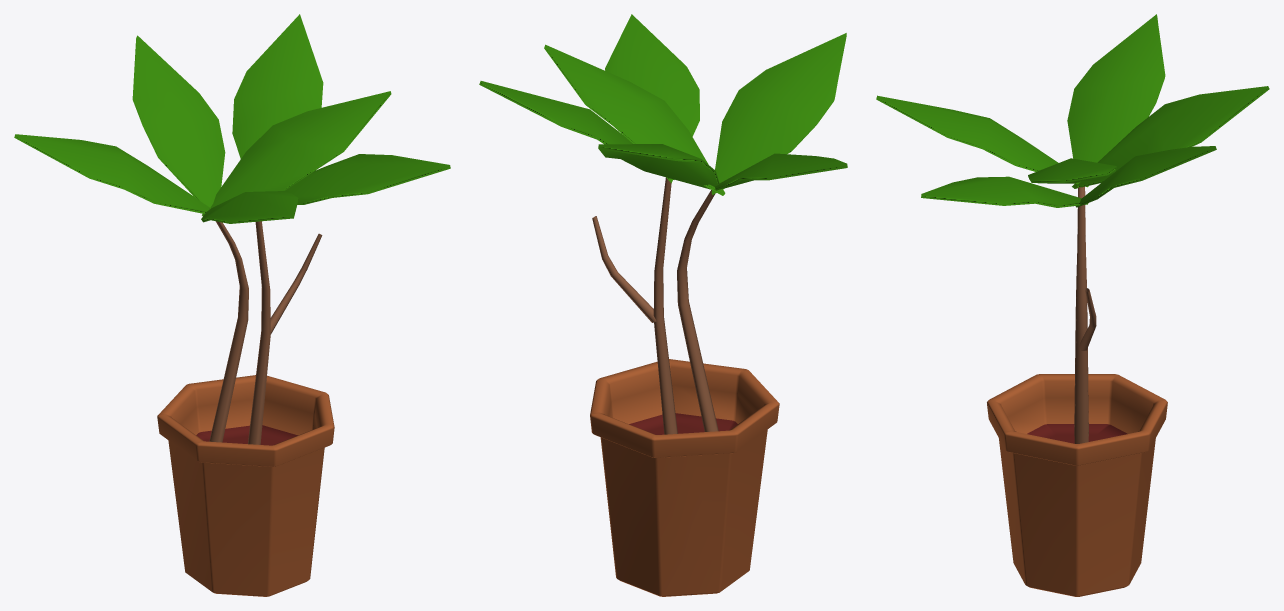
File: bitki.fbx
3 views of the same model, side by side, from view 1: azimuth 30°, elevation 25°; view 2: azimuth 150°, elevation 25°; view 3: azimuth 270°, elevation 25° (orthographic). The views are drawn at different scales.
Parts seen in each view (by area): view 1: oda2.182; view 2: oda2.182; view 3: oda2.182.
Boxes of the visible parts, <box> form: oda2.182: <box>14,14,450,596</box>; oda2.182: <box>479,14,847,596</box>; oda2.182: <box>876,14,1269,596</box>.
Size of the model in its own units: 2.29 by 3.17 by 2.34.
